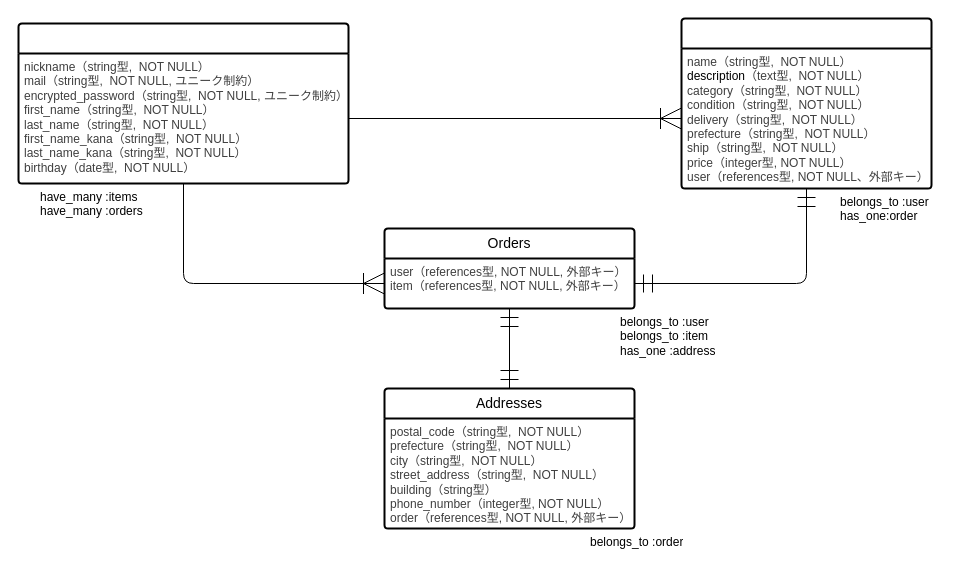
Image size: 971x588. Some labels were removed from this diagram. The shapes that lost their labels are listed below. From the top down, each one's box as (x1, y1, x2, y2) in pixels, then its label:
(17, 22, 349, 184): Users
(680, 17, 932, 189): Items
